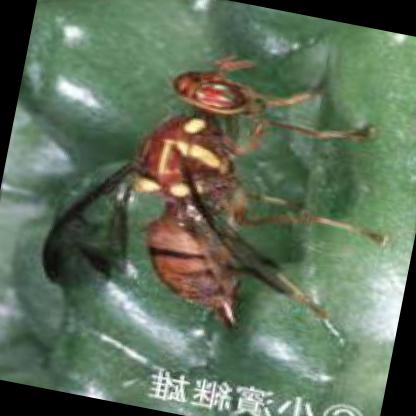fruit fly: (36, 51, 382, 328)
